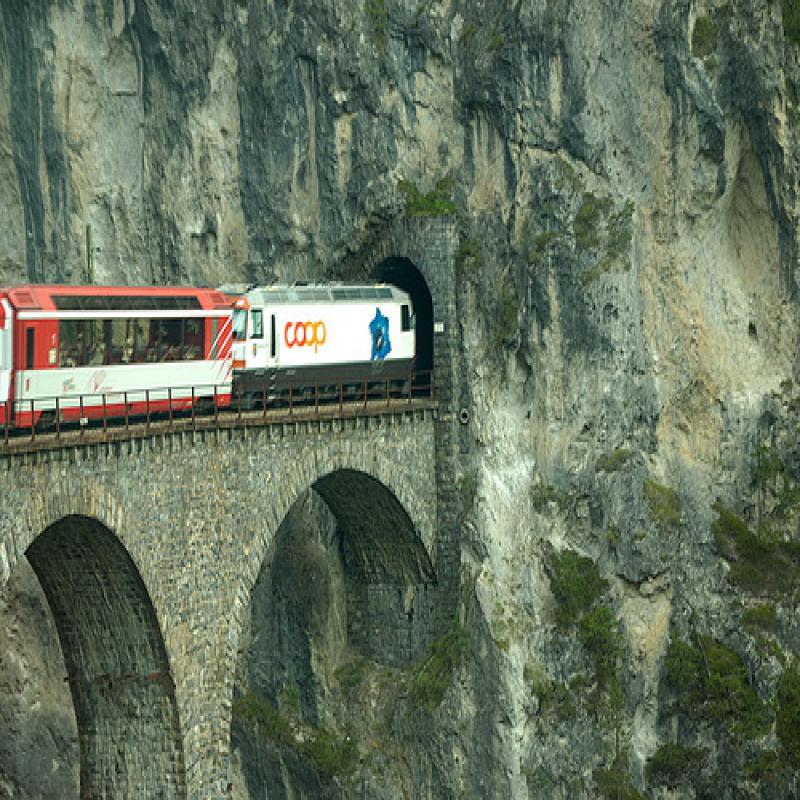train: (3, 282, 420, 441)
